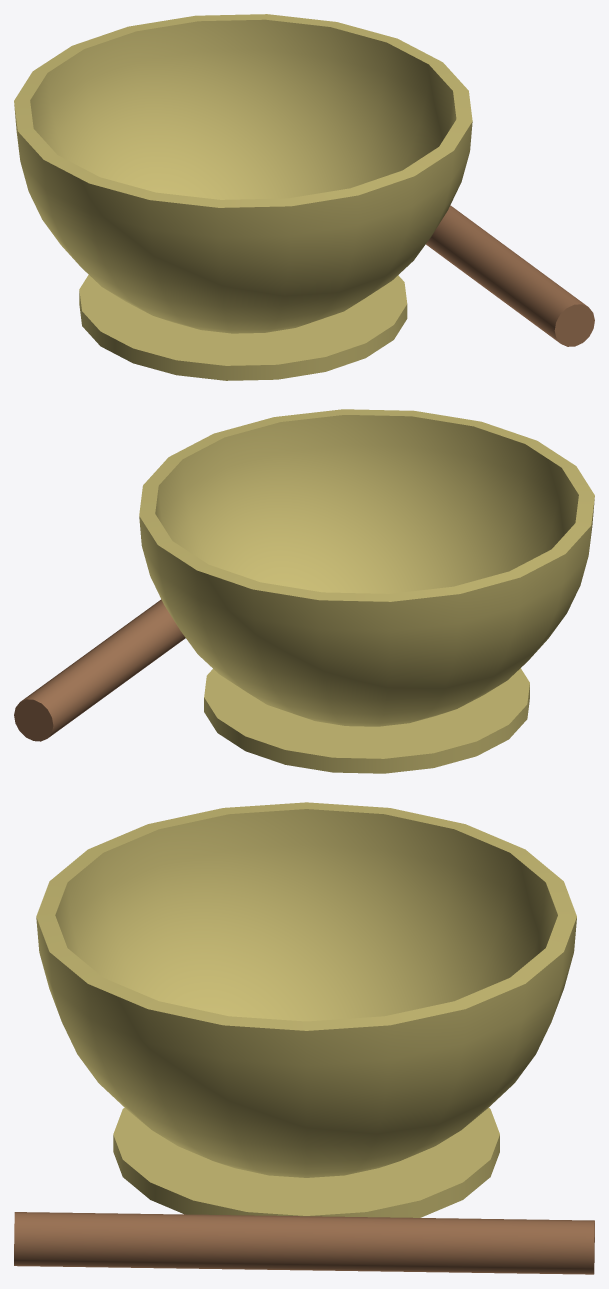
Rendered from Anim_bell.fbx.
The picture shows the model from 3 angles, top to bottom: view 1: azimuth 30°, elevation 25°; view 2: azimuth 150°, elevation 25°; view 3: azimuth 270°, elevation 25°; orthographic projection. The views are drawn at different scales.
Parts seen in each view (by area): view 1: bowl, stage, stick; view 2: bowl, stage, stick; view 3: bowl, stick, stage.
Boxes of the visible parts, x1,y1,x2,y2 form: bowl: [14, 14, 472, 333]; stage: [79, 275, 407, 380]; stick: [426, 205, 594, 346]; bowl: [139, 409, 594, 726]; stage: [204, 668, 529, 773]; stick: [14, 599, 185, 741]; bowl: [36, 802, 576, 1177]; stick: [14, 1212, 594, 1274]; stage: [113, 1107, 499, 1217].
Size of the model in its own units: 15.14 by 6.75 by 15.02.
